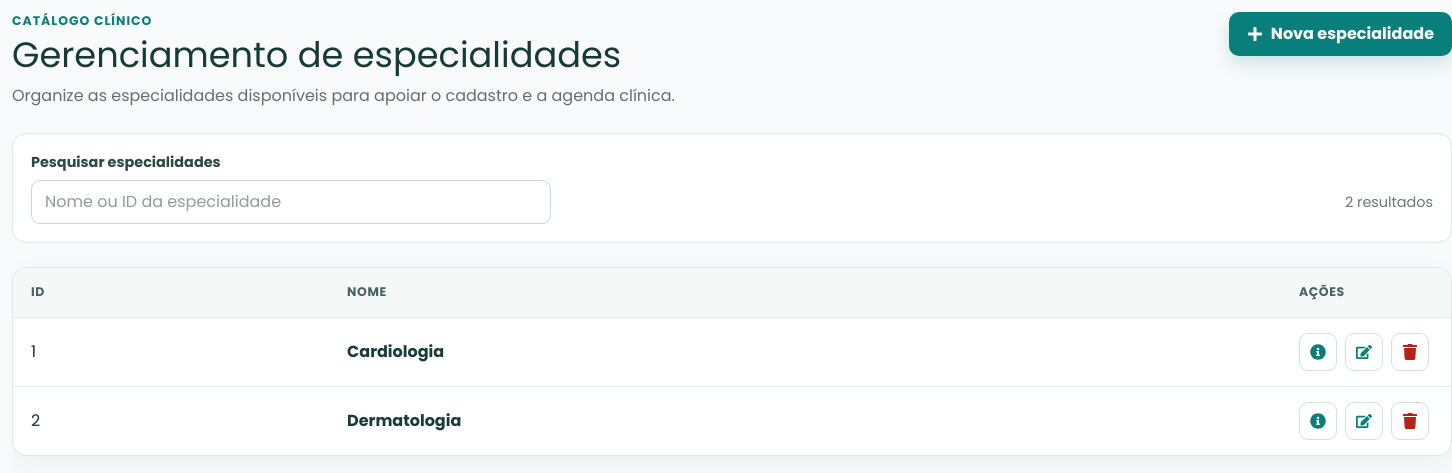
Scenario: SpecialtyList › filtra especialidades pelo nome
The image size is (1452, 473).
Type "Cardio" into the search field labelled "Pesquisar especialidades" at (291, 202), box [31,180,551,224]
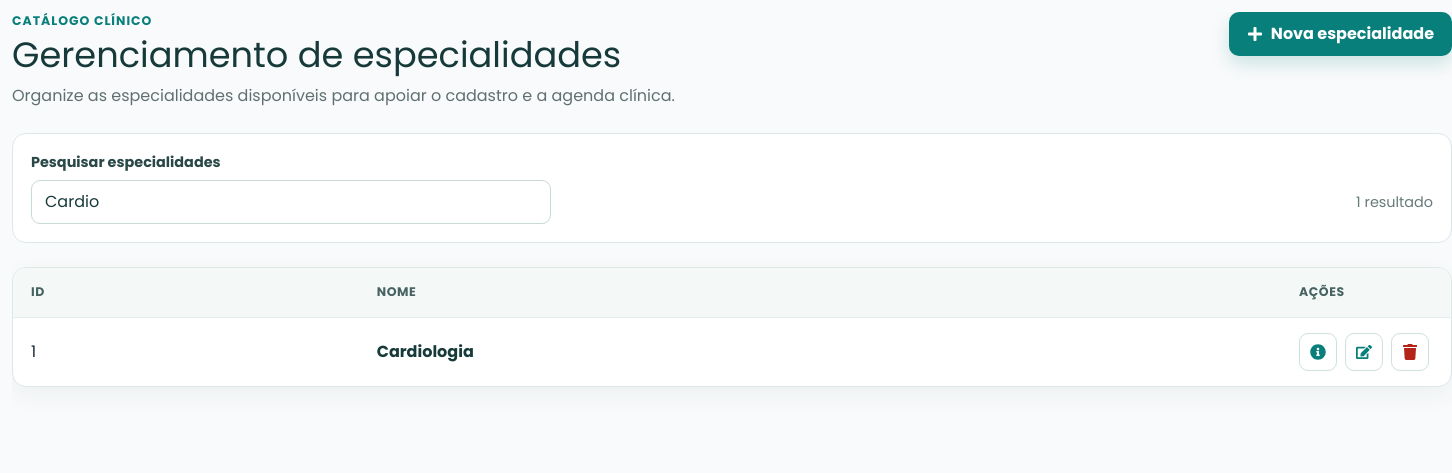
Expected: the text "Cardiologia" is shown, [377,340,474,363]
Now the text "Dermatologia" is gone
Now the text "1 resultado" is shown, box [1356,192,1433,213]
